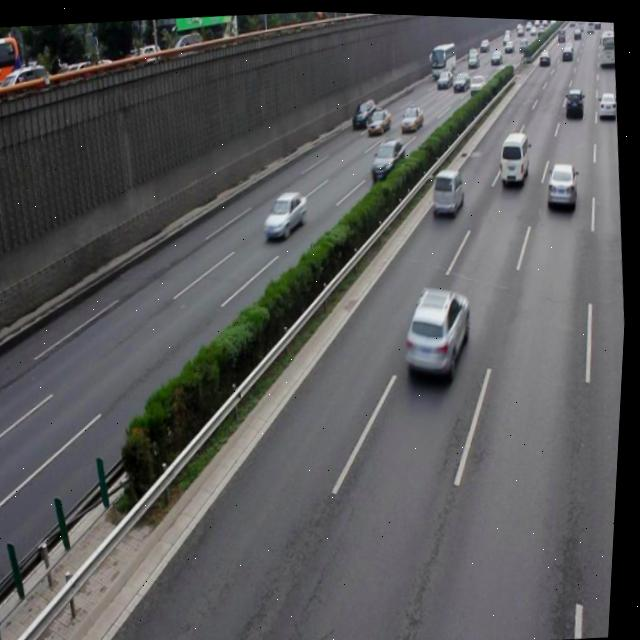car: (400, 278, 477, 379), (261, 186, 311, 237), (429, 163, 467, 214), (368, 132, 408, 180), (543, 156, 579, 207)
truck: (496, 124, 532, 181)
